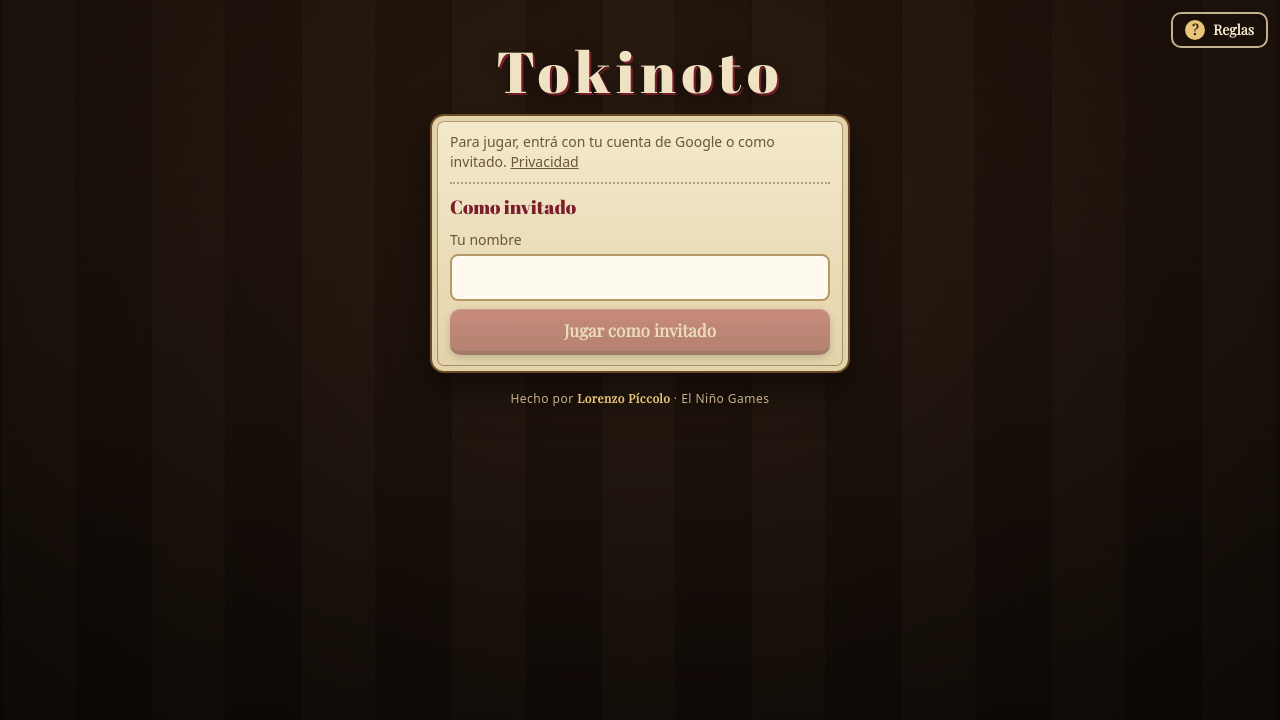
Test case: pantallas iniciales › Inicio no deja entrar como invitado sin nombre
Expected: the button "Jugar como invitado" is disabled, [450, 309, 830, 355]
In the field labelled "Tu nombre": (640, 278) [450, 254, 830, 301], type "Ana"
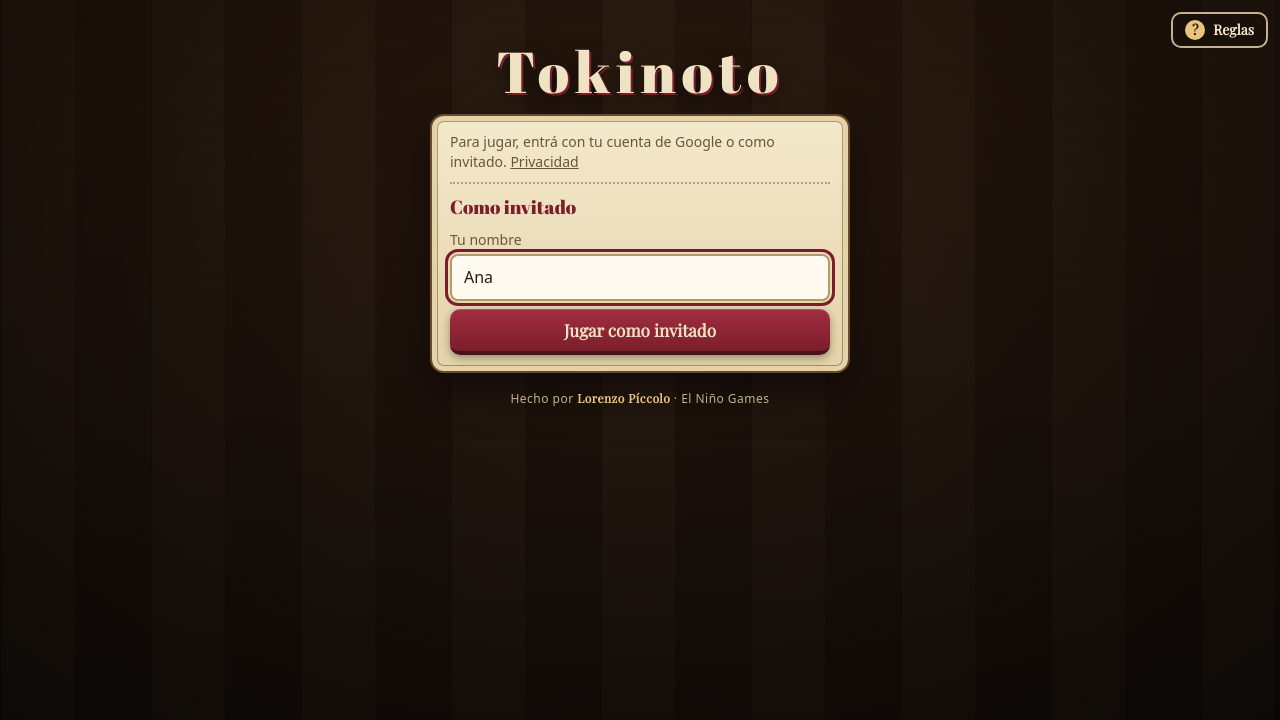
Expected: the button "Jugar como invitado" is enabled, [450, 309, 830, 355]
